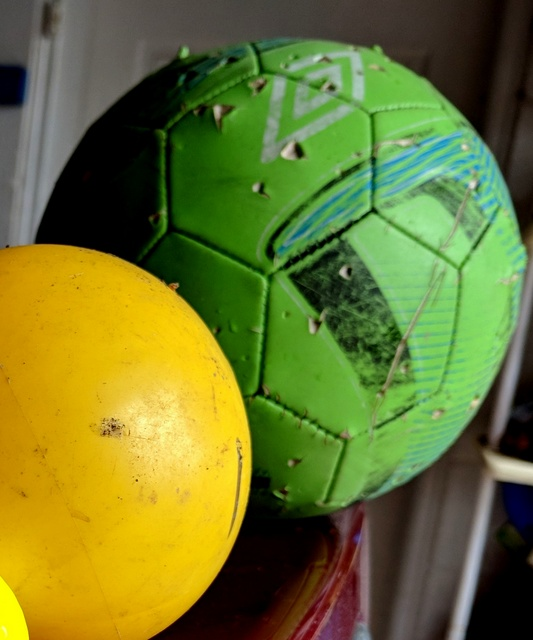ball: (37, 37, 526, 508)
